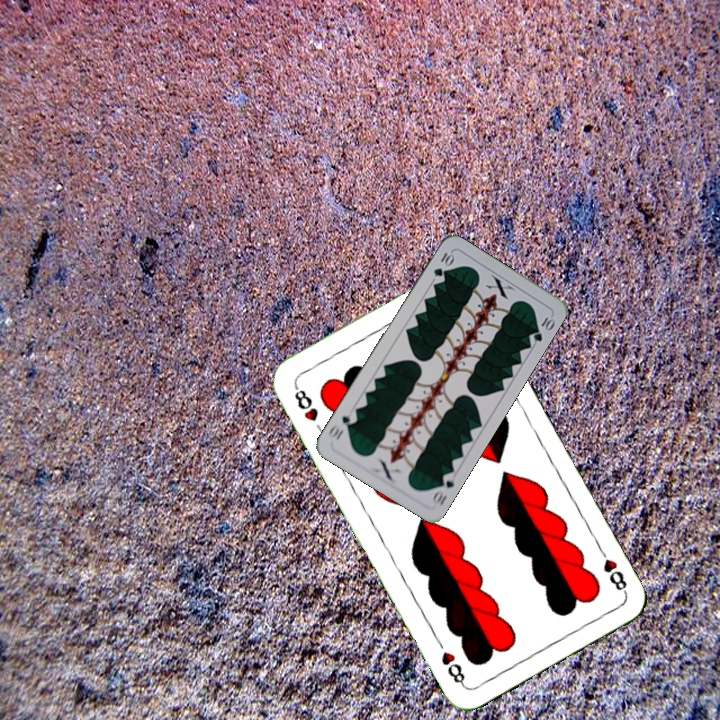G10: (428, 468, 458, 508), (429, 248, 456, 279)
H8: (594, 543, 630, 597), (290, 380, 321, 425)
